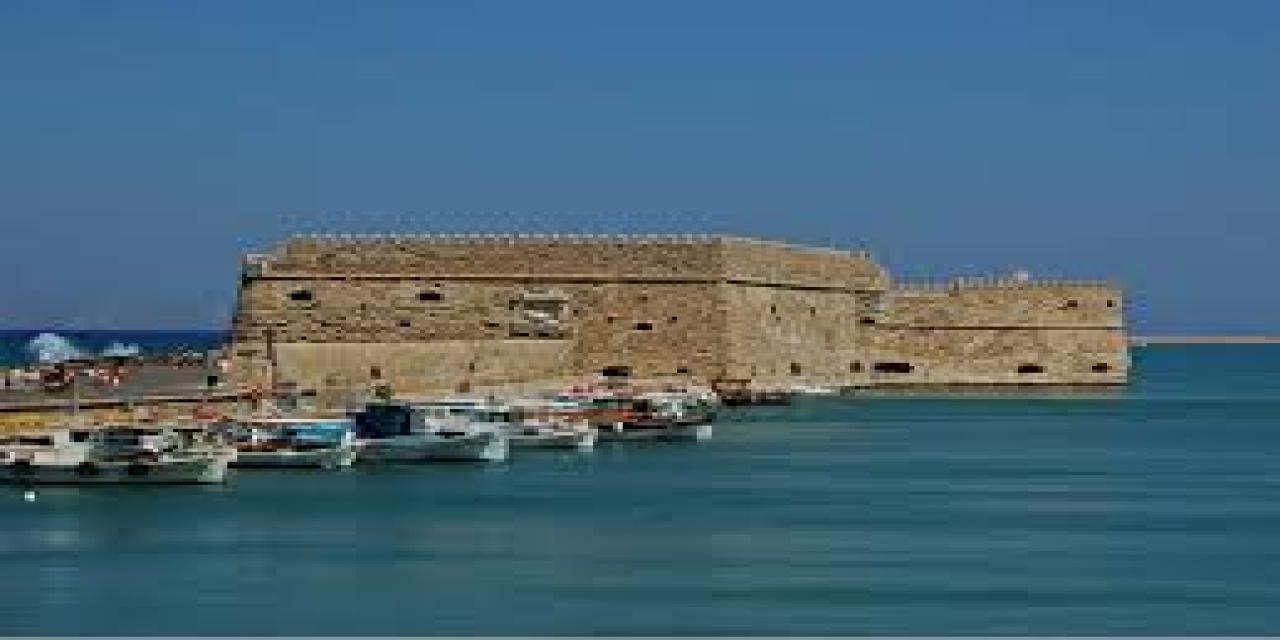Kules: (223, 226, 1136, 390)
